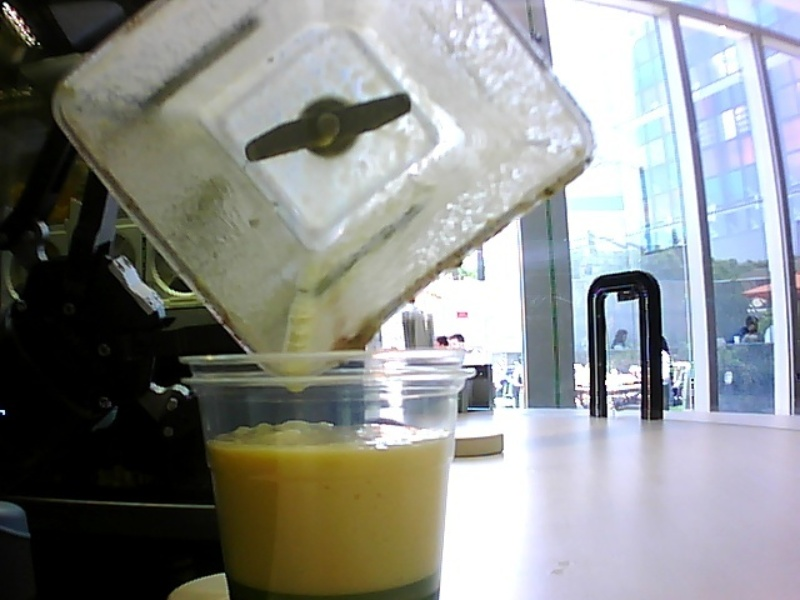cup: (169, 342, 473, 600)
limit: (200, 413, 455, 470)
